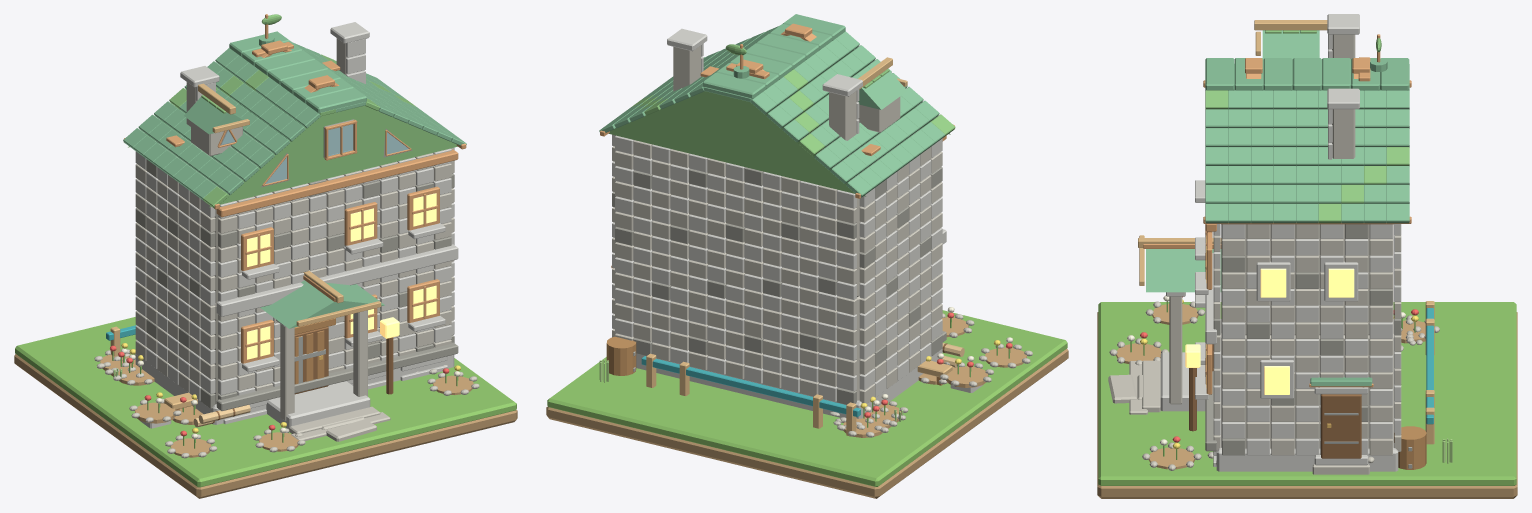
File: stone_house_l06_active.glb
3 views of the same model, side by side, from view 1: azimuth 30°, elevation 25°; view 2: azimuth 150°, elevation 25°; view 3: azimuth 270°, elevation 25° (orthographic). The views are drawn at different scales.
Parts seen in each view (by area): view 1: stone_house_grass_tile.002, pilot_stone_house_l06_green_third_floor_front_wall.002, stone_house_earth_tile.002, pilot_stone_house_l06_continuous_front_band_1.002, pilot_stone_house_l06_continuous_front_band_2.36000000000000, pilot_stone_house_l06_porch_canopy_gable_roof.001, pilot_stone_house_l06_porch_landing.001, pilot_stone_house_l06_continuous_front_band_0.002, pilot_stone_house_l06_unified_foundation_stone_block_medium_, pilot_stone_house_l06_porch_stone_column_-1.001, pilot_stone_house_l06_porch_stone_column_1.001, pilot_stone_house_l06_attic_dormer_green_roof_gable_roof.001 (+27 smaller); view 2: stone_house_grass_tile.002, pilot_stone_house_l06_green_third_floor_back_wall.002, stone_house_earth_tile.002, pilot_stone_house_l06_yard_fence_rail.002, pilot_stone_house_l06_unified_foundation_stone_block_medium_, pilot_stone_house_l06_stone_chimney_0.001, pilot_stone_house_l06_attic_dormer_green_roof_gable_roof.001, pilot_stone_house_l06_yard_barrel_barrel_body.002, pilot_stone_house_l06_stone_chimney_1.001, pilot_stone_house_l06_crest_tile_6.001, pilot_stone_house_l06_attic_dormer_stone_body.001, pilot_stone_house_l06_crest_tile_2.001 (+7 smaller); view 3: stone_house_grass_tile.002, stone_house_earth_tile.002, pilot_stone_house_l06_unified_foundation_stone_block_medium_, pilot_stone_house_l06_side_entry_door.001, pilot_stone_house_l06_porch_canopy_gable_roof.001, pilot_stone_house_l06_porch_stone_column_1.001, pilot_stone_house_l06_attic_dormer_green_roof_gable_roof.001, pilot_stone_house_l06_storey_1_stone_core.001, pilot_stone_house_l06_storey_0_stone_core.001, pilot_stone_house_l06_porch_landing.001, pilot_stone_house_l06_stone_chimney_1.001, pilot_stone_house_l06_yard_barrel_barrel_body.002 (+45 smaller).
Boxes of the visible parts, x1=… form: stone_house_grass_tile.002: x1=15, y1=317, x2=516, y2=487; pilot_stone_house_l06_green_third_floor_front_wall.002: x1=209, y1=105, x2=457, y2=207; stone_house_earth_tile.002: x1=14, y1=354, x2=517, y2=498; pilot_stone_house_l06_continuous_front_band_1.002: x1=216, y1=244, x2=458, y2=316; pilot_stone_house_l06_continuous_front_band_2.36000000000000: x1=216, y1=149, x2=458, y2=217; pilot_stone_house_l06_porch_canopy_gable_roof.001: x1=260, y1=280, x2=384, y2=328; pilot_stone_house_l06_porch_landing.001: x1=266, y1=381, x2=370, y2=429; pilot_stone_house_l06_continuous_front_band_0.002: x1=216, y1=342, x2=458, y2=410; pilot_stone_house_l06_unified_foundation_stone_block_medium_: x1=135, y1=354, x2=454, y2=424; pilot_stone_house_l06_porch_stone_column_-1.001: x1=280, y1=324, x2=294, y2=421; pilot_stone_house_l06_porch_stone_column_1.001: x1=353, y1=310, x2=367, y2=396; pilot_stone_house_l06_attic_dormer_green_roof_gable_roof.001: x1=184, y1=97, x2=243, y2=134; stone_house_grass_tile.002: x1=547, y1=310, x2=1067, y2=486; pilot_stone_house_l06_green_third_floor_back_wall.002: x1=608, y1=91, x2=865, y2=196; stone_house_earth_tile.002: x1=546, y1=349, x2=1068, y2=498; pilot_stone_house_l06_yard_fence_rail.002: x1=641, y1=356, x2=860, y2=417; pilot_stone_house_l06_unified_foundation_stone_block_medium_: x1=636, y1=348, x2=942, y2=418; pilot_stone_house_l06_stone_chimney_0.001: x1=829, y1=91, x2=856, y2=140; pilot_stone_house_l06_attic_dormer_green_roof_gable_roof.001: x1=858, y1=69, x2=907, y2=109; pilot_stone_house_l06_yard_barrel_barrel_body.002: x1=606, y1=336, x2=636, y2=375; pilot_stone_house_l06_stone_chimney_1.001: x1=673, y1=45, x2=700, y2=91; pilot_stone_house_l06_crest_tile_6.001: x1=703, y1=72, x2=765, y2=98; pilot_stone_house_l06_attic_dormer_stone_body.001: x1=858, y1=96, x2=900, y2=132; pilot_stone_house_l06_crest_tile_2.001: x1=756, y1=33, x2=818, y2=59; stone_house_grass_tile.002: x1=1098, y1=302, x2=1516, y2=485; stone_house_earth_tile.002: x1=1097, y1=312, x2=1517, y2=498; pilot_stone_house_l06_unified_foundation_stone_block_medium_: x1=1216, y1=319, x2=1398, y2=471; pilot_stone_house_l06_side_entry_door.001: x1=1321, y1=394, x2=1361, y2=458; pilot_stone_house_l06_porch_canopy_gable_roof.001: x1=1146, y1=249, x2=1221, y2=292; pilot_stone_house_l06_porch_stone_column_1.001: x1=1169, y1=296, x2=1182, y2=404; pilot_stone_house_l06_attic_dormer_green_roof_gable_roof.001: x1=1262, y1=30, x2=1319, y2=59; pilot_stone_house_l06_storey_1_stone_core.001: x1=1221, y1=224, x2=1393, y2=335; pilot_stone_house_l06_storey_0_stone_core.001: x1=1221, y1=333, x2=1393, y2=448; pilot_stone_house_l06_porch_landing.001: x1=1160, y1=352, x2=1205, y2=411; pilot_stone_house_l06_stone_chimney_1.001: x1=1332, y1=109, x2=1355, y2=158; pilot_stone_house_l06_yard_barrel_barrel_body.002: x1=1394, y1=426, x2=1426, y2=469.
Size of the model in its own units: 3.6 by 3.73 by 3.6.
